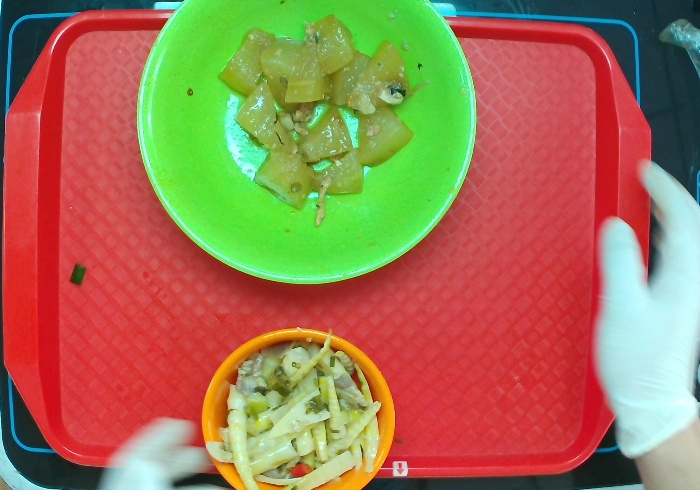YKMZ-Ju_Se_Yuan_Wan: (200, 326, 398, 490)
YKMZ-Lv_Se_Tang_Wan: (136, 1, 481, 285)
